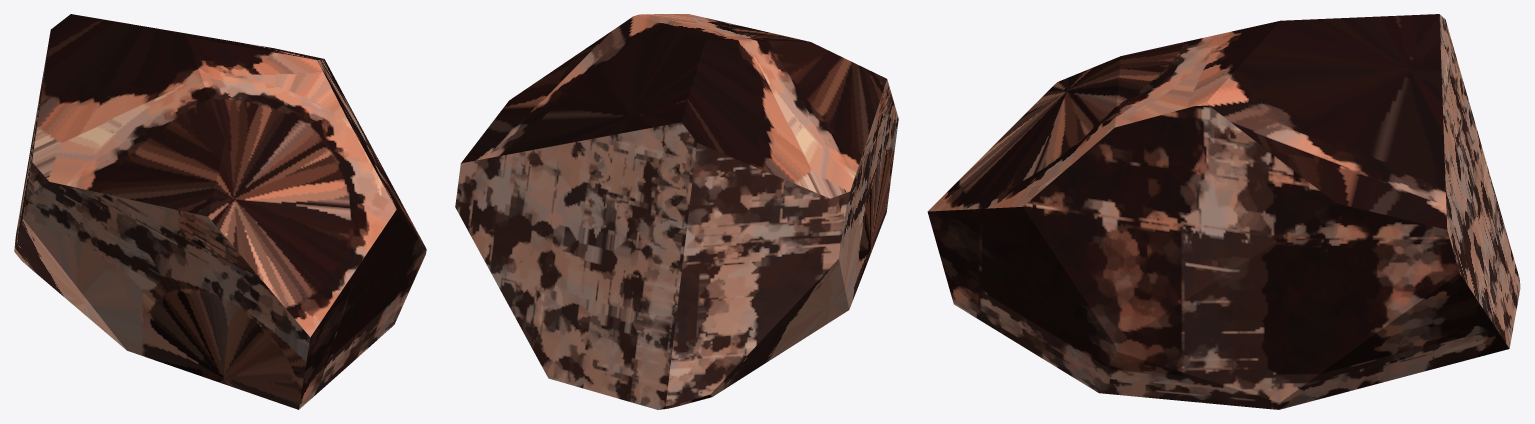
The model's file is Pedra2Caverna.fbx.
3 renders of one model, left to right at view 1: azimuth 30°, elevation 25°; view 2: azimuth 150°, elevation 25°; view 3: azimuth 270°, elevation 25°, orthographic. The views are drawn at different scales.
Parts seen in each view (by area): view 1: Pedra2Caverna; view 2: Pedra2Caverna; view 3: Pedra2Caverna.
Boxes of the visible parts, bbox=[...] form: Pedra2Caverna: bbox=[14, 14, 426, 409]; Pedra2Caverna: bbox=[455, 14, 898, 409]; Pedra2Caverna: bbox=[927, 14, 1520, 409].
Bounding box in the file's own units: 186 × 148 × 265.
